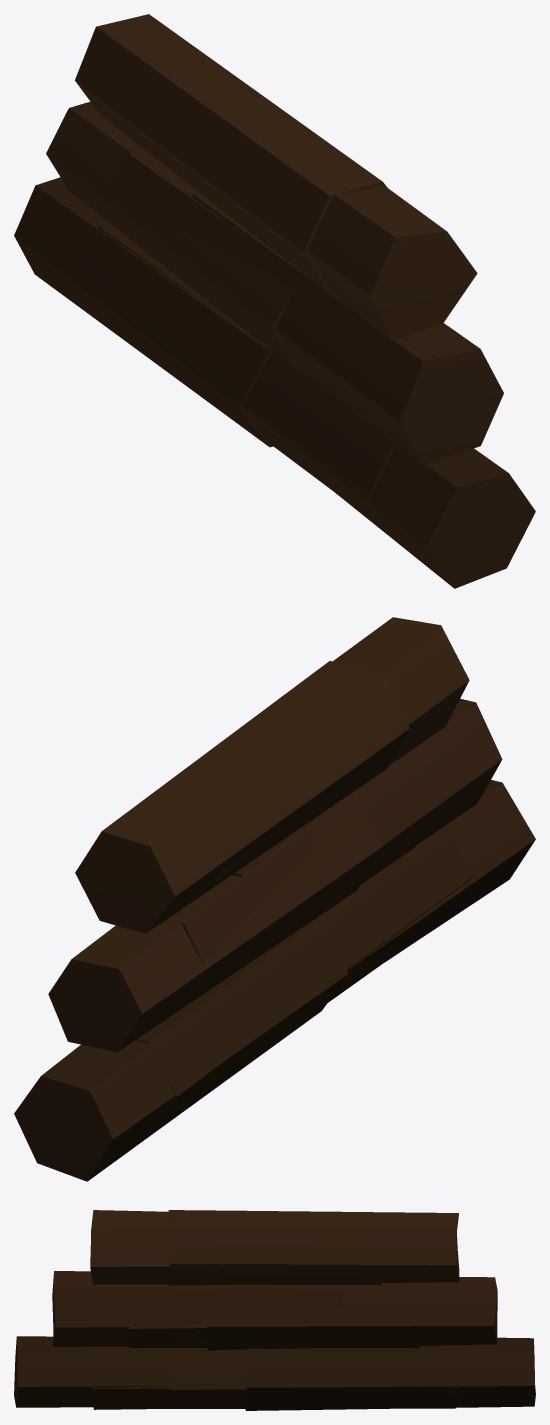
File: woodpile.glb
3 views of the same model, one above another, from view 1: azimuth 30°, elevation 25°; view 2: azimuth 150°, elevation 25°; view 3: azimuth 270°, elevation 25° (orthographic). The views are drawn at different scales.
Parts seen in each view (by area): view 1: woodpile; view 2: woodpile; view 3: woodpile.
Part boxes in pixels (x1=…): woodpile: x1=14, y1=14, x2=535, y2=588; woodpile: x1=14, y1=617, x2=535, y2=1181; woodpile: x1=14, y1=1210, x2=535, y2=1410.
Bounding box in the file's own units: 0.0943 × 0.2425 × 0.6143.
